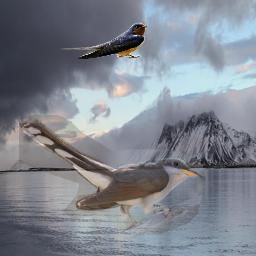Cuckoo: (19, 115, 206, 235)
Swallow: (60, 22, 147, 59)
